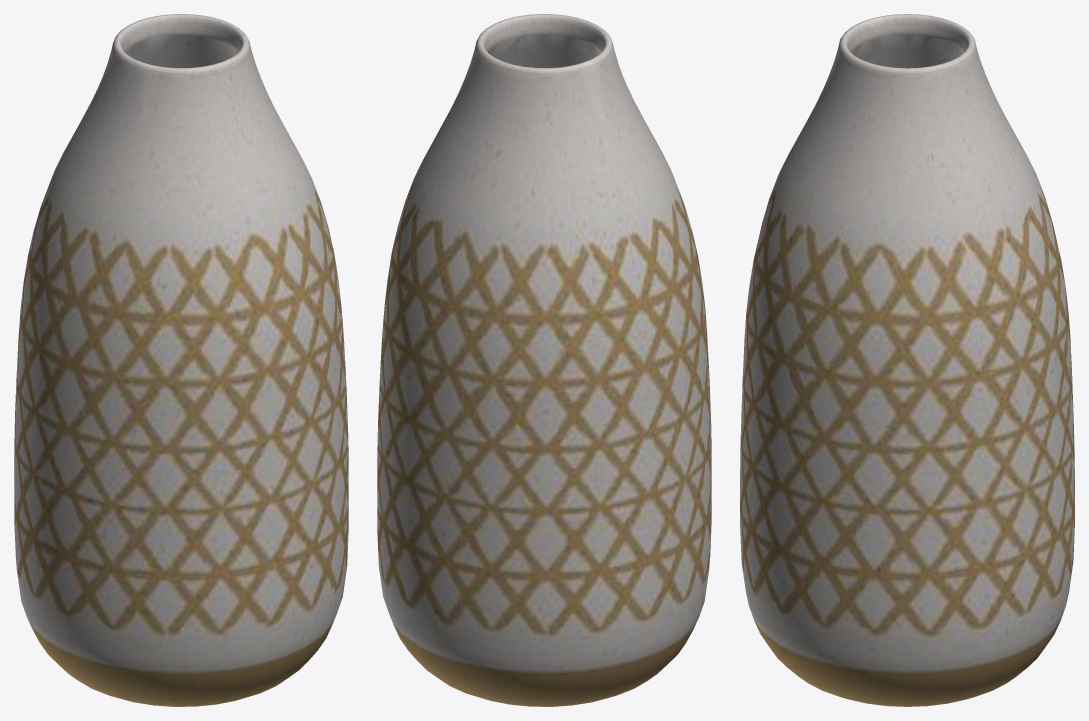
3 views of the same model, side by side, from view 1: azimuth 30°, elevation 25°; view 2: azimuth 150°, elevation 25°; view 3: azimuth 270°, elevation 25° (orthographic).
Visible parts, largest first — view 1: RootNode; view 2: RootNode; view 3: RootNode.
Part boxes in pixels (<box>): RootNode: <box>14,14,348,706</box>; RootNode: <box>377,14,711,706</box>; RootNode: <box>740,14,1074,706</box>.
Size of the model in its own units: 0.1858 by 0.38 by 0.1855.
Materials: 1 (1 with a texture image).
